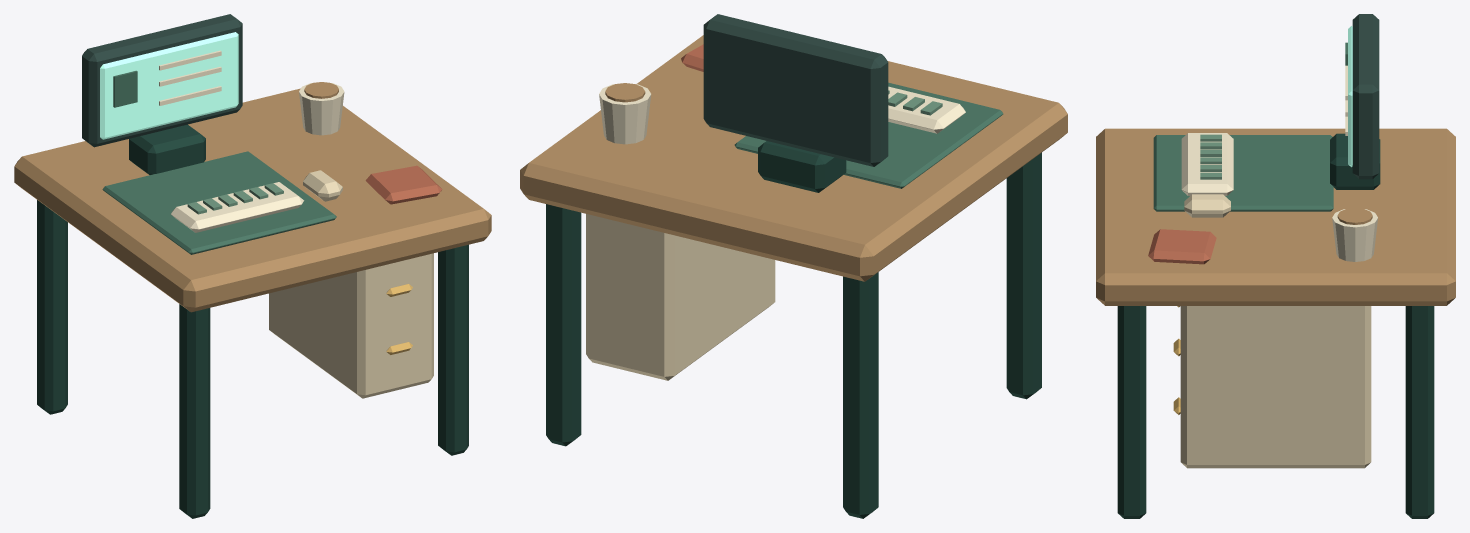
File: desk_square.glb
The picture shows the model from 3 angles, left to right: view 1: azimuth 30°, elevation 25°; view 2: azimuth 150°, elevation 25°; view 3: azimuth 270°, elevation 25°; orthographic projection. The views are drawn at different scales.
Parts seen in each view (by area): view 1: wood_Asset_desk_square, deep_Asset_desk_square, cream_Asset_desk_square, green_Asset_desk_square, screen_Asset_desk_square, outline_Asset_desk_square, ivory_Asset_desk_square, earth_Asset_desk_square, sage_Asset_desk_square; view 2: wood_Asset_desk_square, deep_Asset_desk_square, cream_Asset_desk_square, outline_Asset_desk_square, green_Asset_desk_square, ivory_Asset_desk_square; view 3: wood_Asset_desk_square, cream_Asset_desk_square, deep_Asset_desk_square, green_Asset_desk_square, outline_Asset_desk_square, ivory_Asset_desk_square, earth_Asset_desk_square, sage_Asset_desk_square, screen_Asset_desk_square.
Boxes of the visible parts, bbox=[...] form: wood_Asset_desk_square: bbox=[14, 82, 491, 312]; deep_Asset_desk_square: bbox=[37, 124, 468, 518]; cream_Asset_desk_square: bbox=[269, 170, 433, 398]; green_Asset_desk_square: bbox=[102, 70, 336, 254]; screen_Asset_desk_square: bbox=[100, 32, 238, 139]; outline_Asset_desk_square: bbox=[82, 14, 242, 147]; ivory_Asset_desk_square: bbox=[159, 50, 344, 232]; earth_Asset_desk_square: bbox=[365, 165, 442, 204]; sage_Asset_desk_square: bbox=[187, 183, 283, 214]; wood_Asset_desk_square: bbox=[520, 35, 1067, 281]; deep_Asset_desk_square: bbox=[546, 141, 1041, 518]; cream_Asset_desk_square: bbox=[586, 214, 775, 380]; outline_Asset_desk_square: bbox=[703, 14, 888, 166]; green_Asset_desk_square: bbox=[734, 82, 1003, 188]; ivory_Asset_desk_square: bbox=[599, 84, 965, 144]; wood_Asset_desk_square: bbox=[1096, 128, 1455, 305]; cream_Asset_desk_square: bbox=[1180, 194, 1371, 468]; deep_Asset_desk_square: bbox=[1117, 133, 1434, 518]; green_Asset_desk_square: bbox=[1153, 42, 1347, 211]; outline_Asset_desk_square: bbox=[1352, 14, 1379, 179]; ivory_Asset_desk_square: bbox=[1181, 65, 1377, 261]; earth_Asset_desk_square: bbox=[1148, 229, 1216, 264]; sage_Asset_desk_square: bbox=[1200, 134, 1221, 179]; screen_Asset_desk_square: bbox=[1348, 26, 1352, 167].
Bounding box in the file's own units: 1 × 1.16 × 1.
